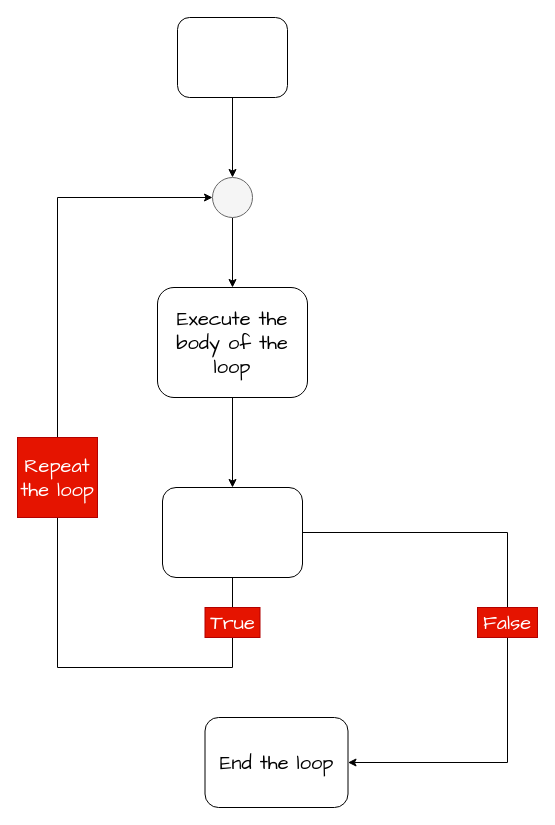
This 555x825 diagram has some shape labels left out. Each missing label, with the centre of its shape:
"Entry of the loop" goes at pixel 232 57.
"If the condition is" goes at pixel 232 532.
